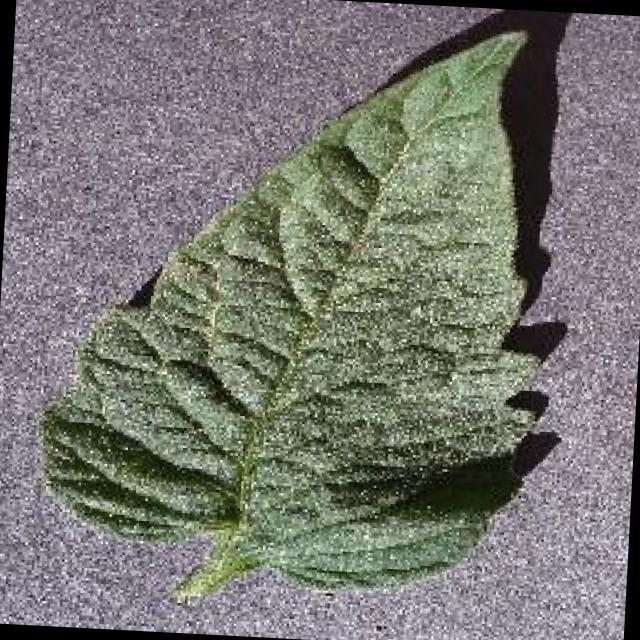Tomato_Healthy: (27, 4, 583, 598)
